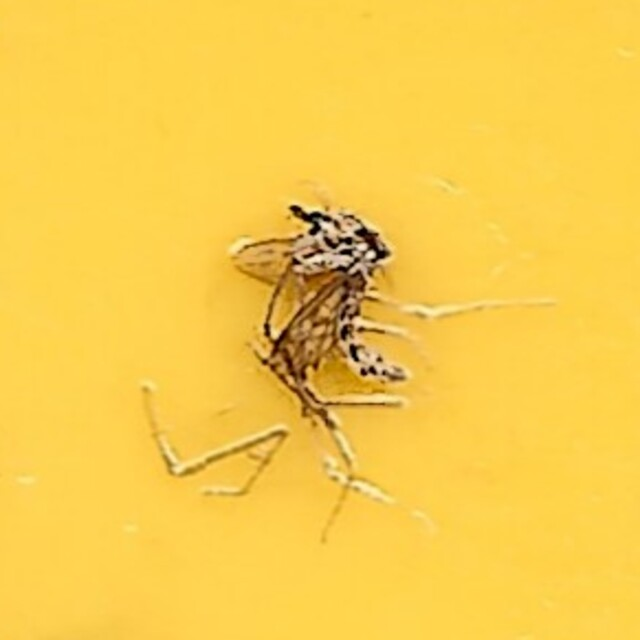Nematocera: (220, 198, 420, 442)
